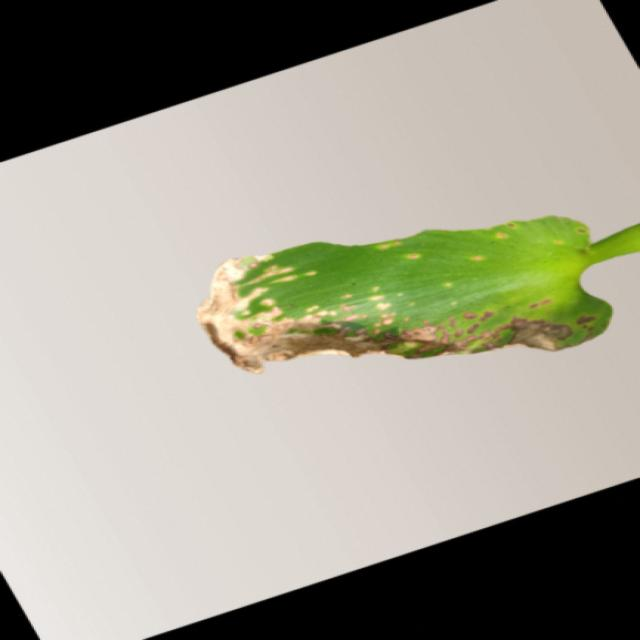daun berpenyakit bercak: (198, 216, 638, 372)
